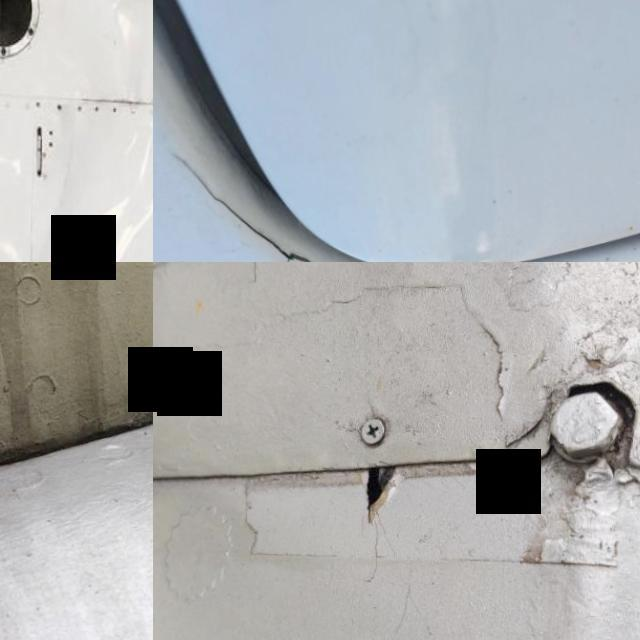Crack: (164, 151, 523, 262), (339, 439, 428, 552)
Dent: (35, 105, 153, 262), (110, 0, 153, 99)
